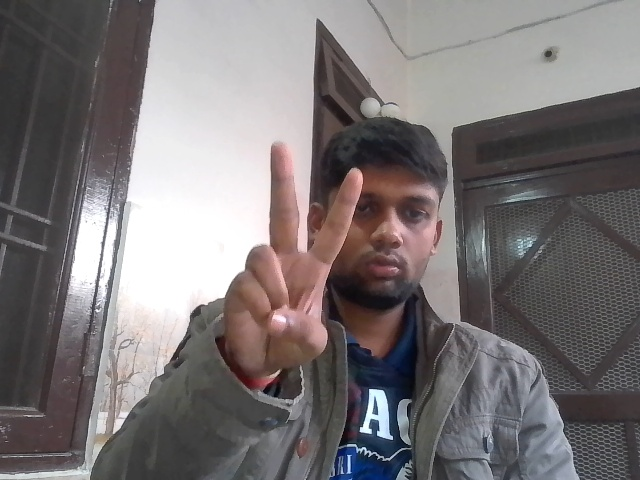Enjoy: (220, 133, 369, 376)
